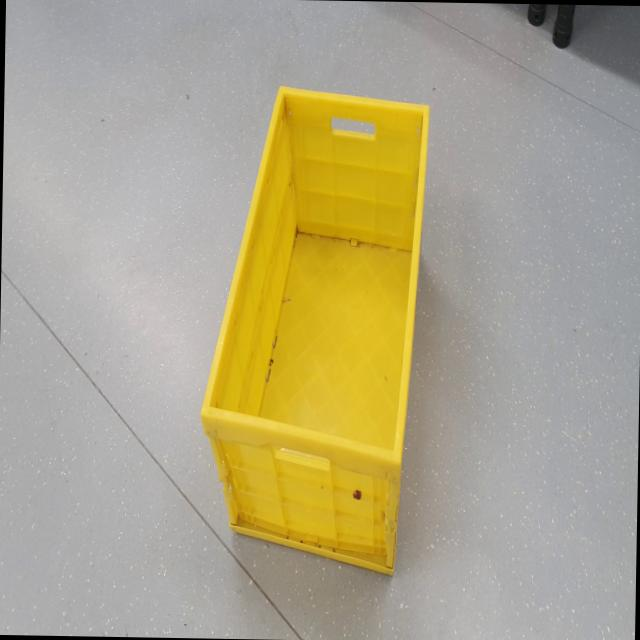box: (188, 61, 443, 614)
